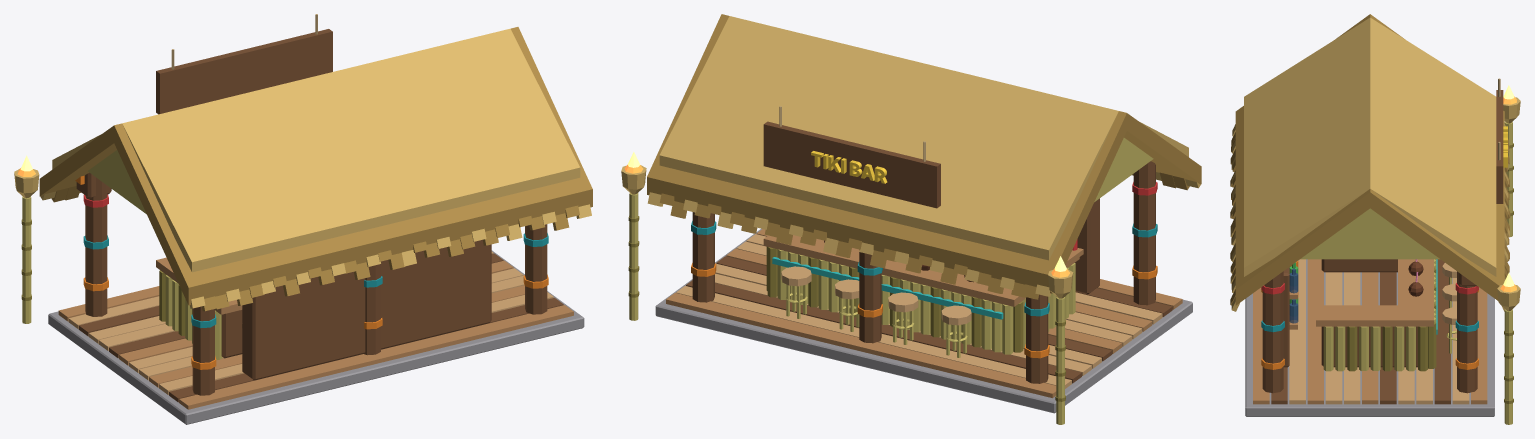
The model's file is TikiBar.fbx.
The picture shows the model from 3 angles, left to right: view 1: azimuth 30°, elevation 25°; view 2: azimuth 150°, elevation 25°; view 3: azimuth 270°, elevation 25°; orthographic projection. The views are drawn at different scales.
Parts seen in each view (by area): view 1: TikiBar_Thatch, TikiBar_WoodDark, TikiBar_ThatchDark, TikiBar_Stone, TikiBar_Plank, TikiBar_WoodLight, TikiBar_Bamboo, TikiBar_BambooDark, TikiBar_Orange, TikiBar_Teal; view 2: TikiBar_Thatch, TikiBar_ThatchDark, TikiBar_WoodDark, TikiBar_Bamboo, TikiBar_Plank, TikiBar_WoodLight, TikiBar_Stone, TikiBar_BambooDark, TikiBar_Turquoise, TikiBar_Yellow, TikiBar_Orange, TikiBar_Teal; view 3: TikiBar_Thatch, TikiBar_WoodDark, TikiBar_Plank, TikiBar_ThatchDark, TikiBar_Bamboo, TikiBar_WoodLight, TikiBar_Stone, TikiBar_BambooDark, TikiBar_GlassDark, TikiBar_Orange, TikiBar_Chocolate, TikiBar_Teal (+1 smaller).
Part boxes in pixels (x1,y1,x2,y2): TikiBar_Thatch: (14, 28, 591, 308); TikiBar_WoodDark: (76, 29, 563, 402); TikiBar_ThatchDark: (39, 27, 592, 311); TikiBar_Stone: (48, 250, 584, 424); TikiBar_Plank: (58, 257, 573, 409); TikiBar_WoodLight: (68, 251, 553, 394); TikiBar_Bamboo: (22, 150, 222, 359); TikiBar_BambooDark: (21, 219, 185, 335); TikiBar_Orange: (75, 175, 548, 369); TikiBar_Teal: (83, 233, 548, 328); TikiBar_Thatch: (621, 16, 1200, 298); TikiBar_ThatchDark: (647, 14, 1201, 299); TikiBar_WoodDark: (686, 121, 1172, 383); TikiBar_Bamboo: (629, 138, 1153, 424); TikiBar_Plank: (666, 229, 1182, 398); TikiBar_WoodLight: (676, 234, 1162, 388); TikiBar_Stone: (655, 228, 1192, 413); TikiBar_BambooDark: (628, 216, 1065, 401); TikiBar_Turquoise: (772, 257, 1003, 319); TikiBar_Yellow: (811, 151, 887, 183); TikiBar_Orange: (691, 263, 1157, 358); TikiBar_Teal: (691, 221, 1157, 316); TikiBar_Thatch: (1230, 17, 1520, 311); TikiBar_WoodDark: (1262, 90, 1503, 404); TikiBar_Plank: (1253, 259, 1487, 404); TikiBar_ThatchDark: (1230, 14, 1510, 305); TikiBar_Bamboo: (1300, 122, 1512, 424); TikiBar_WoodLight: (1289, 259, 1469, 404); TikiBar_Stone: (1245, 259, 1494, 416); TikiBar_BambooDark: (1347, 143, 1513, 403); TikiBar_GlassDark: (1289, 268, 1298, 323); TikiBar_Orange: (1261, 261, 1478, 369); TikiBar_Chocolate: (1408, 261, 1423, 296); TikiBar_Teal: (1261, 320, 1478, 332).
Bounding box in the file's own units: 33.7 × 18 × 20.94.
